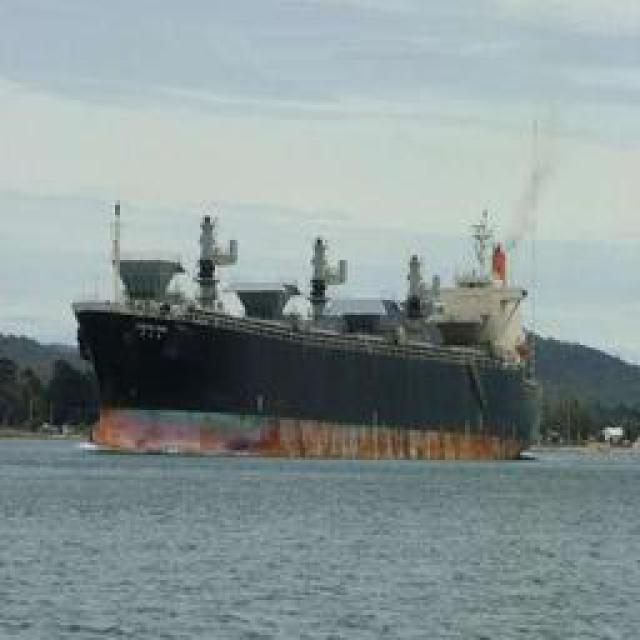Ship: (70, 221, 540, 454)
